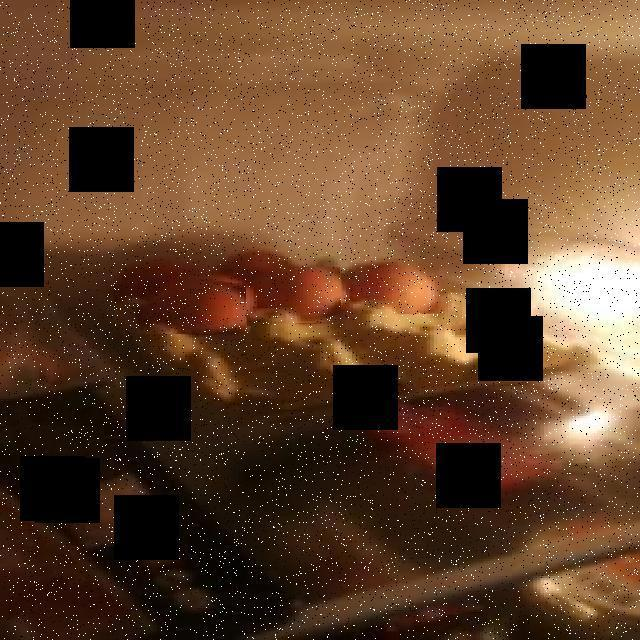egg: (137, 272, 254, 334), (245, 267, 352, 326), (340, 258, 439, 314)
